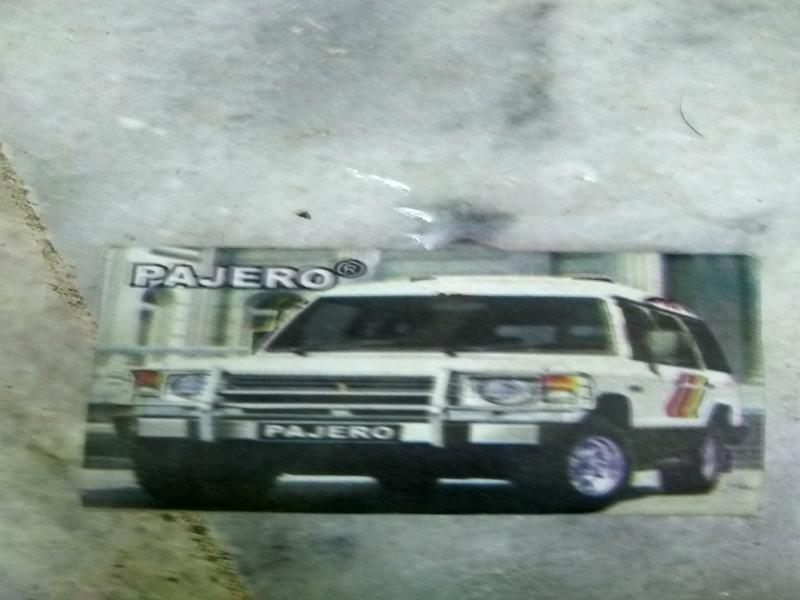pajero: (99, 242, 763, 514)
